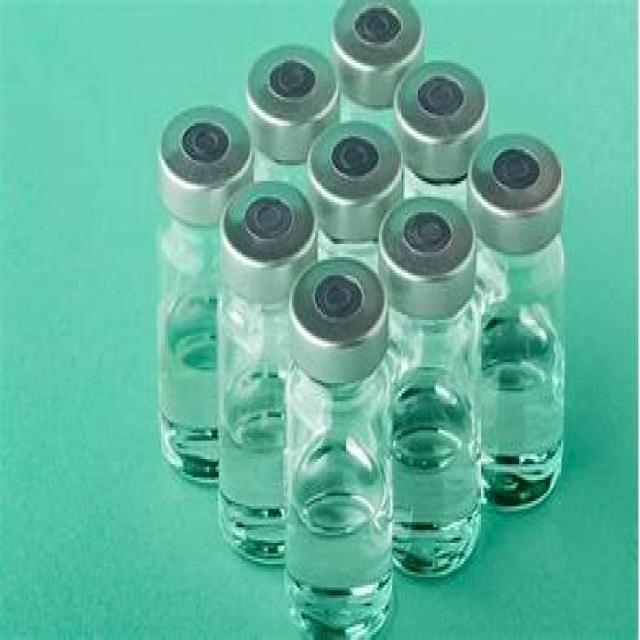vial: (295, 258, 399, 352), (465, 128, 564, 220), (384, 199, 483, 287), (314, 122, 404, 212), (333, 0, 429, 75), (160, 105, 252, 180), (224, 180, 310, 258), (247, 54, 332, 126), (395, 52, 469, 124)
